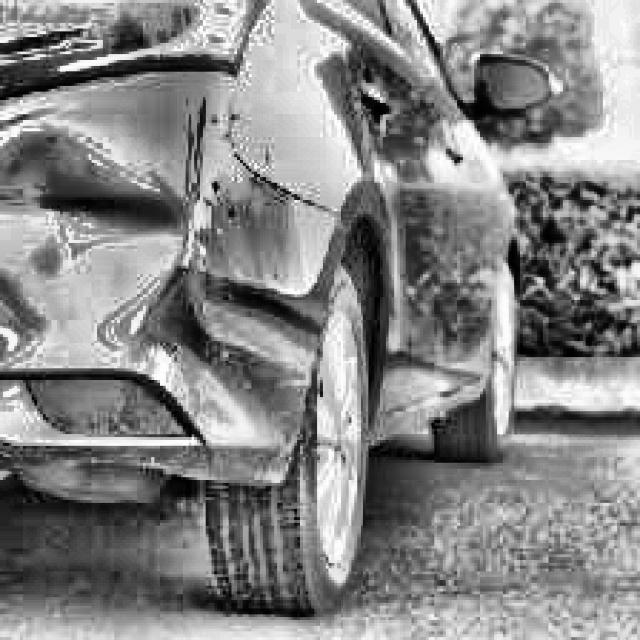bumper_dent: (4, 142, 179, 366)
